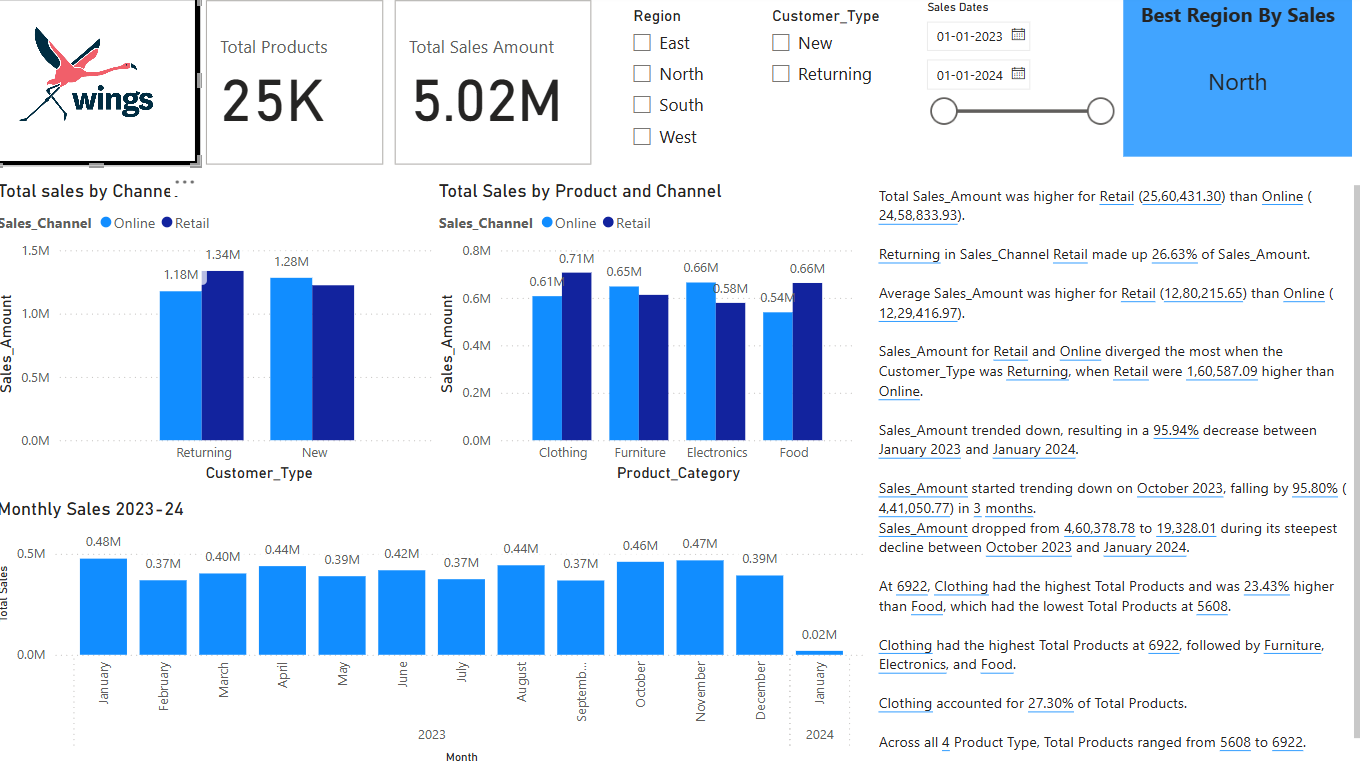

This screenshot's page, from the dashboard's own definition file:
{"tool":"powerbi","page":{"name":"Page 1","canvas":[1280,720],"ordinal":0},"visuals":[{"type":"slicer","fields":{"Values":["sales_data.Region"]},"box":[580.2,0,120.9,152.3],"z":0},{"type":"cardVisual","fields":{"Data":["Sum(sales_data.Quantity_Sold)"]},"box":[194.2,0,175.6,164],"z":1000},{"type":"cardVisual","fields":{"Data":["Sum(sales_data.Sales_Amount)"]},"box":[369.8,0,193,164],"z":2000},{"type":"slicer","fields":{"Values":["sales_data.Customer_Type"]},"box":[712.8,5.8,157,104.7],"z":3000},{"type":"lineClusteredColumnComboChart","title":"Total sales by Channel","fields":{"Category":["sales_data.Customer_Type"],"Series":["sales_data.Sales_Channel"],"Y":["Sum(sales_data.Sales_Amount)"]},"box":[0,172.1,439.5,286],"z":4000},{"type":"lineStackedColumnComboChart","title":"Monthly Sales 2023-24","fields":{"Category":["sales_data.Sale_Date.Variation.Date Hierarchy.Year","sales_data.Sale_Date.Variation.Date Hierarchy.Month"],"Y":["Sum(sales_data.Sales_Amount)"]},"box":[0,467.4,819.8,252.3],"z":5000},{"type":"clusteredColumnChart","title":"Total Sales by Product and  Channel","fields":{"Category":["sales_data.Product_Category"],"Y":["Sum(sales_data.Sales_Amount)"],"Series":["sales_data.Sales_Channel"]},"box":[410.5,172.1,397.7,286],"z":6000},{"type":"slicer","fields":{"Values":["sales_data.Sale_Date"]},"box":[840.7,0,195.3,139.5],"z":7000},{"type":"textbox","box":[1052,0,213,150],"z":8000},{"type":"image","title":"Wings SuperMart","box":[0,12.8,182.6,139.5],"z":9000},{"type":"textbox","box":[857,240,400,446.5],"z":10000}]}

Visuals, with their boxes in screenshot pixels (x1, y1, x2, y2), scaled from the page's 1280x720 canvas onto the 1360x762 screenshot:
slicer - sales_data.Region: box(616, 0, 745, 161)
cardVisual - Sum(sales_data.Quantity_Sold): box(206, 0, 393, 174)
cardVisual - Sum(sales_data.Sales_Amount): box(393, 0, 598, 174)
slicer - sales_data.Customer_Type: box(757, 6, 924, 117)
"Total sales by Channel" lineClusteredColumnComboChart: box(0, 182, 467, 485)
"Monthly Sales 2023-24" lineStackedColumnComboChart: box(0, 495, 871, 761)
"Total Sales by Product and  Channel" clusteredColumnChart: box(436, 182, 859, 485)
slicer - sales_data.Sale_Date: box(893, 0, 1101, 148)
textbox: box(1118, 0, 1344, 159)
"Wings SuperMart" image: box(0, 14, 194, 161)
textbox: box(911, 254, 1336, 727)
